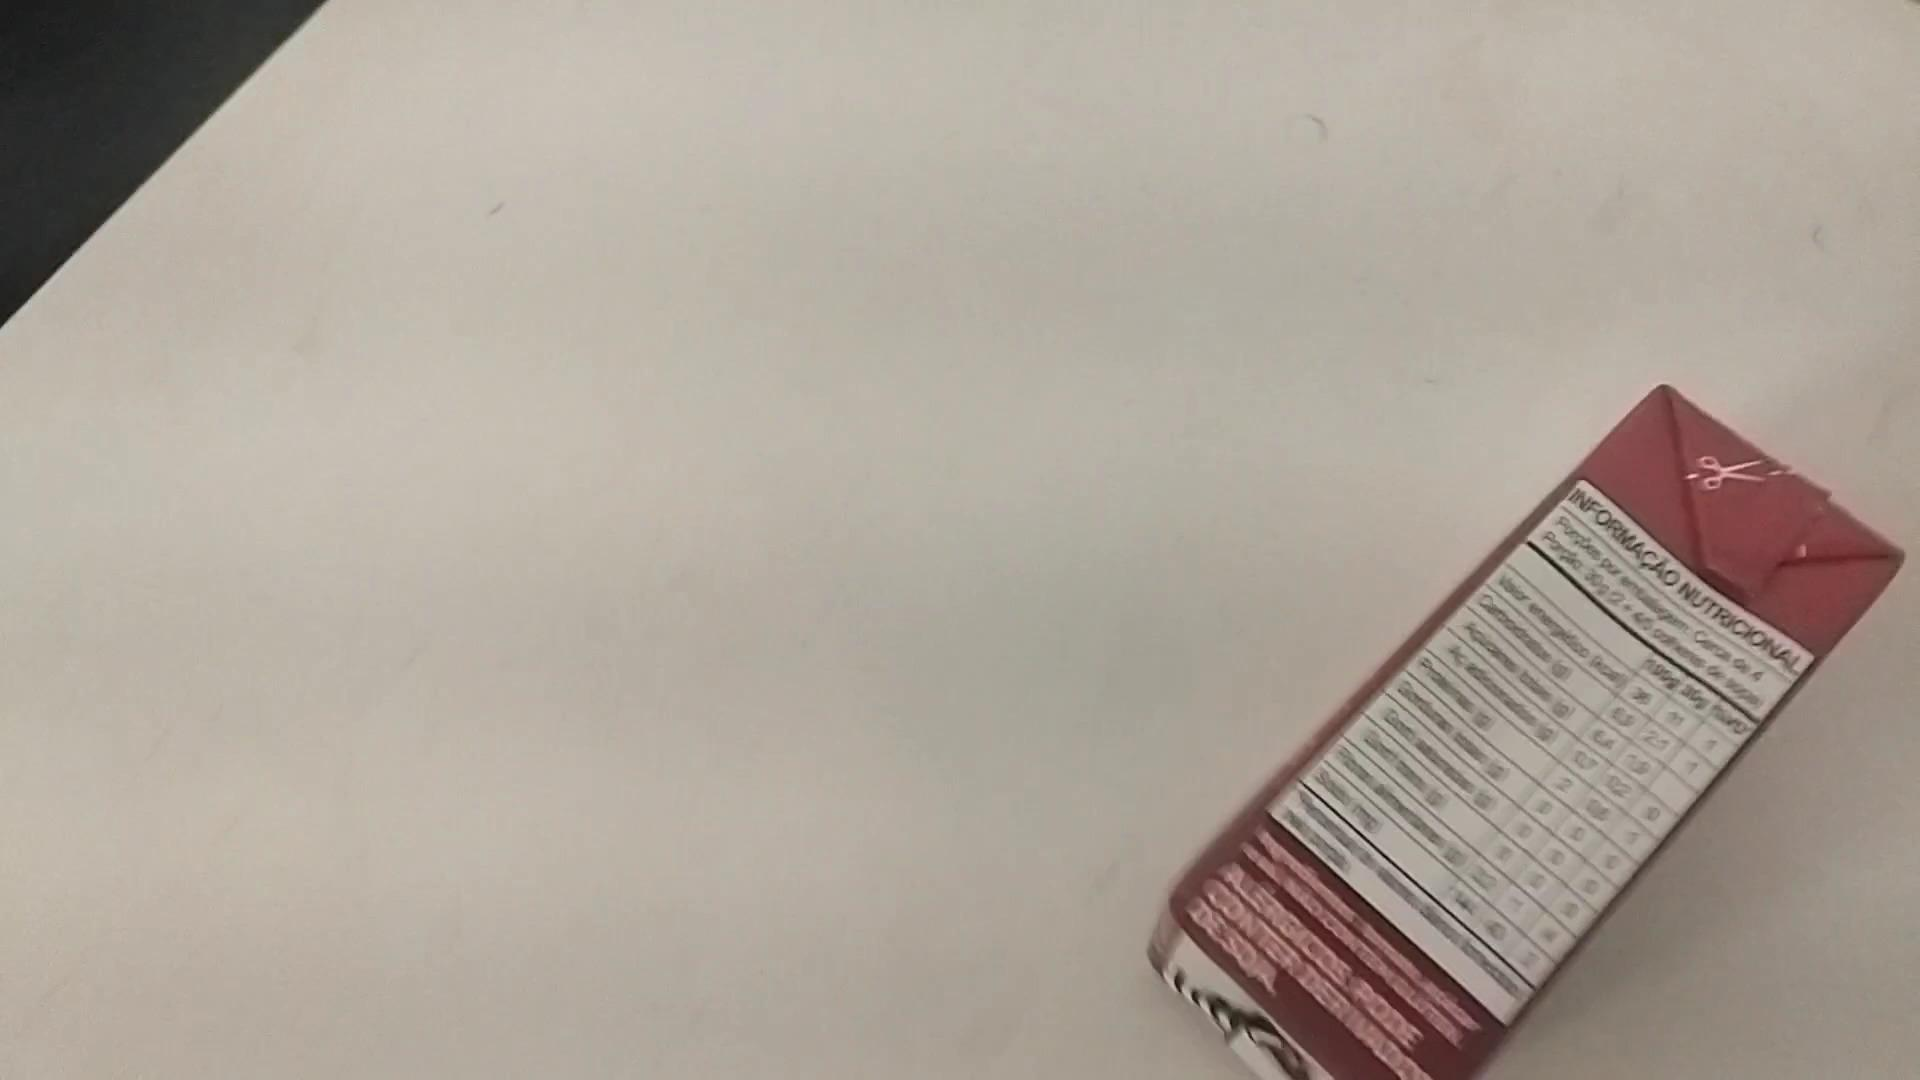tomate: (1145, 384, 1904, 1079)
